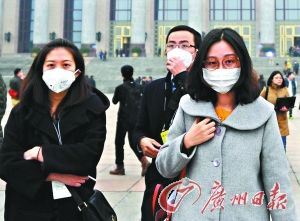yes_mask: (191, 24, 247, 94), (30, 38, 83, 94), (163, 26, 204, 75)
